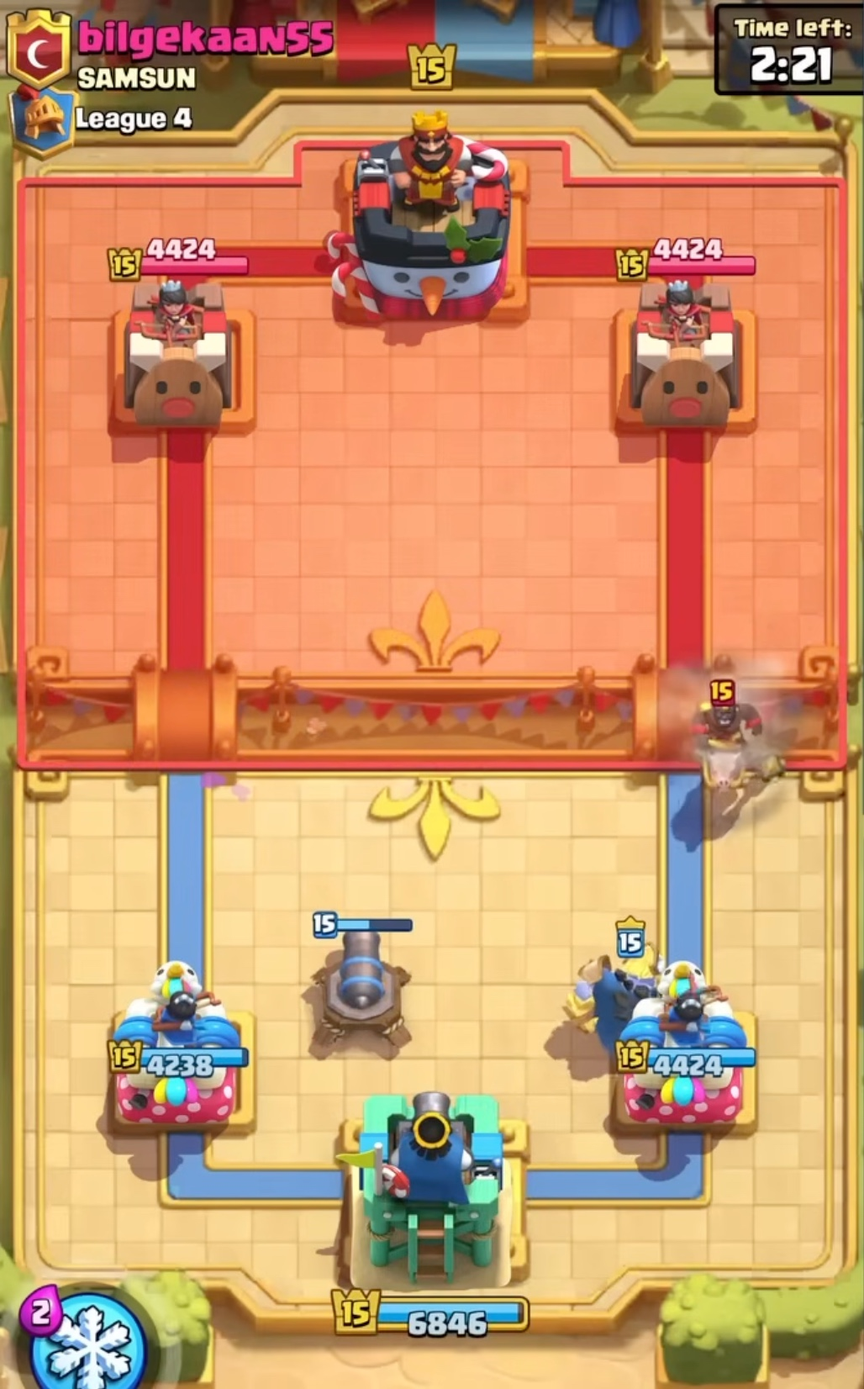cannon: (289, 903, 438, 1064)
hero-ice-golem: (551, 912, 703, 1078)
